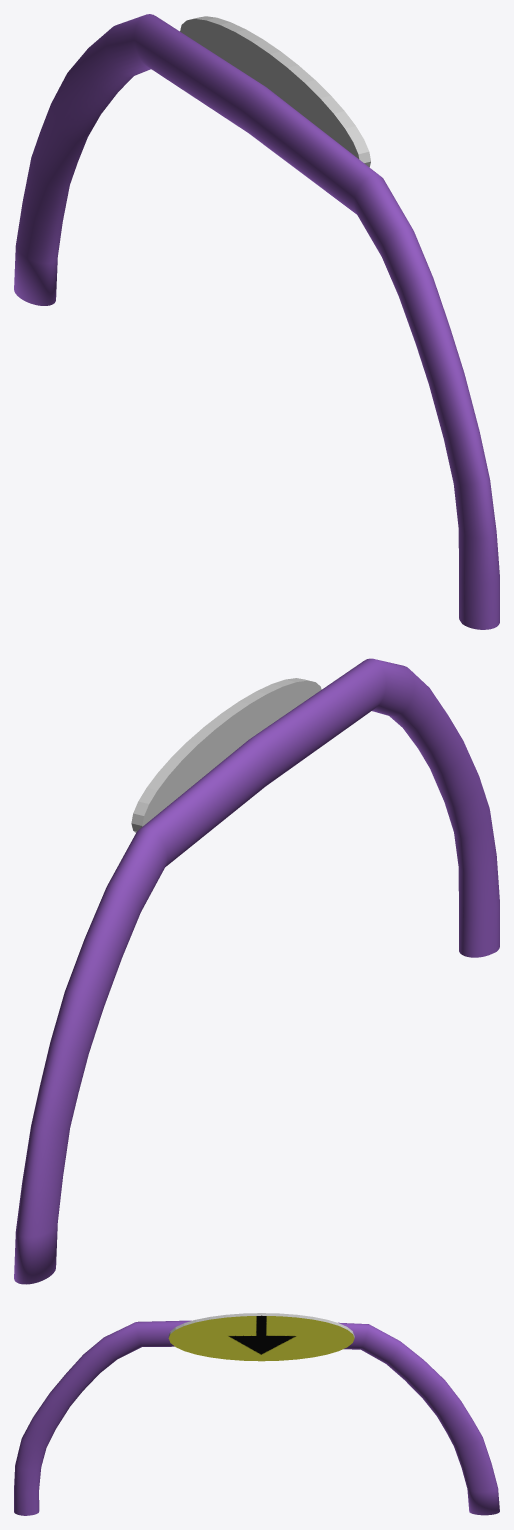
Rendered from Checkpoint.fbx.
The picture shows the model from 3 angles, top to bottom: view 1: azimuth 30°, elevation 25°; view 2: azimuth 150°, elevation 25°; view 3: azimuth 270°, elevation 25°; orthographic projection. The views are drawn at different scales.
Visible parts, largest first — view 1: Checkpoint, Sign; view 2: Checkpoint, Sign; view 3: Checkpoint, Sign.
Part boxes in pixels (box(x1,y1,x2,y2)): Checkpoint: box(14, 14, 499, 629); Sign: box(180, 16, 370, 167); Checkpoint: box(14, 658, 499, 1284); Sign: box(131, 678, 321, 832); Checkpoint: box(14, 1320, 499, 1515); Sign: box(168, 1313, 354, 1361).
Bounding box in the file's own units: 220 × 1782 × 3858.
